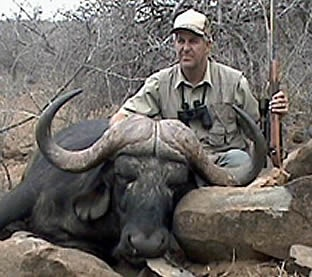buffalo: (0, 88, 266, 269)
